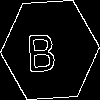B: (25, 25, 58, 72)
